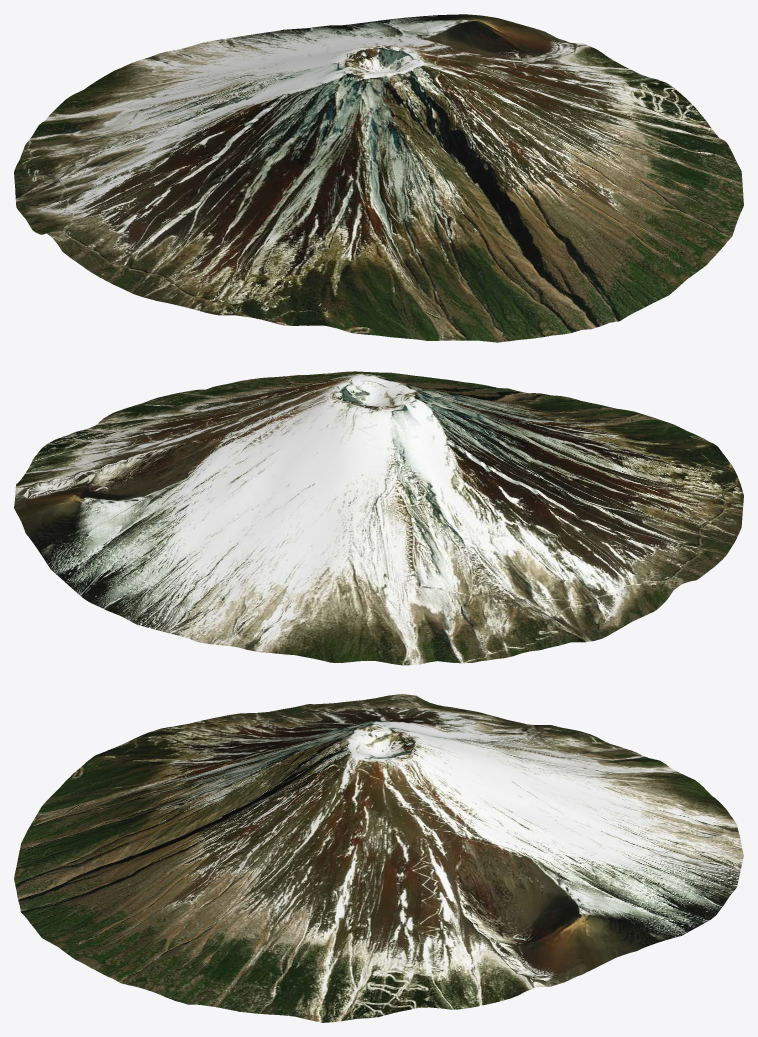
The model's file is MountFuji.glb.
3 views of the same model, one above another, from view 1: azimuth 30°, elevation 25°; view 2: azimuth 150°, elevation 25°; view 3: azimuth 270°, elevation 25° (orthographic).
Parts seen in each view (by area): view 1: Object_2; view 2: Object_2; view 3: Object_2.
Boxes of the visible parts, x1,y1,x2,y2 form: Object_2: (14,14,743,342); Object_2: (14,371,743,665); Object_2: (14,694,743,1022).
Bounding box in the file's own units: 45.77 × 9.83 × 45.77.
Materials: 1 (1 with a texture image).
